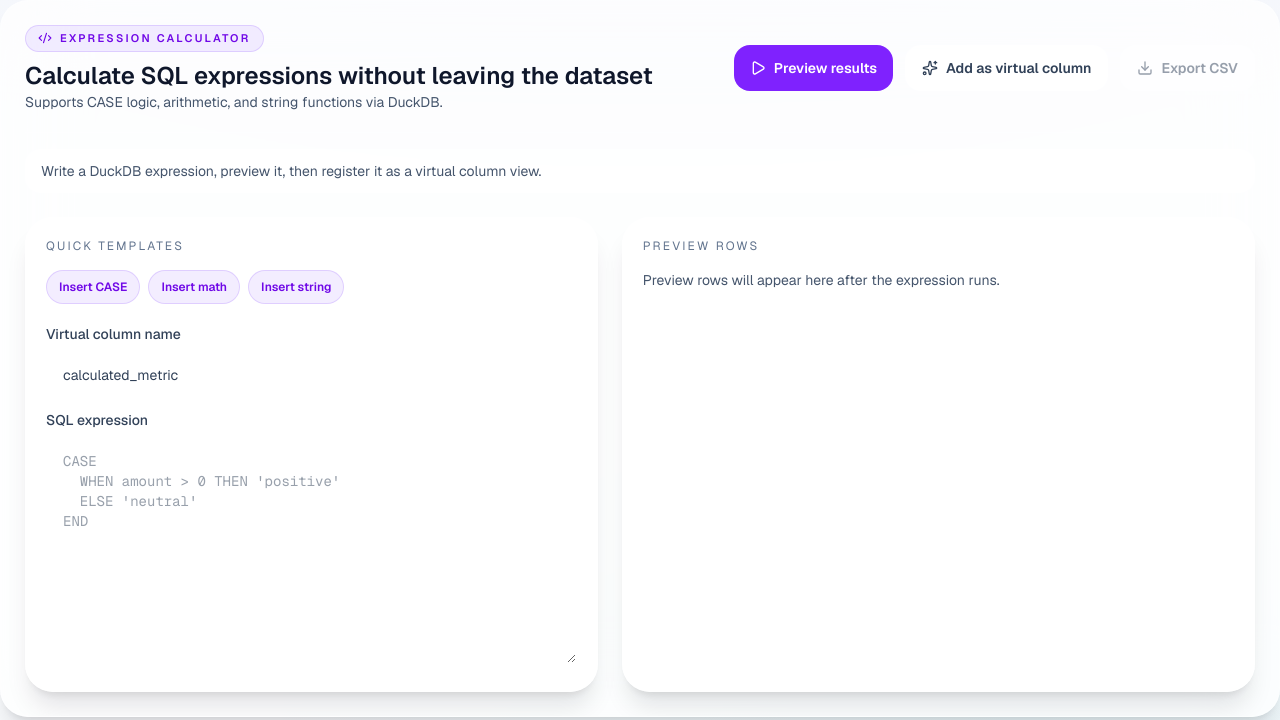
Test: ExpressionCalculator › inserts CASE snippets and previews the computed values
The width and height of the screenshot is (1280, 720).
Click the button "Insert CASE": click(93, 286) [46,270,140,304]
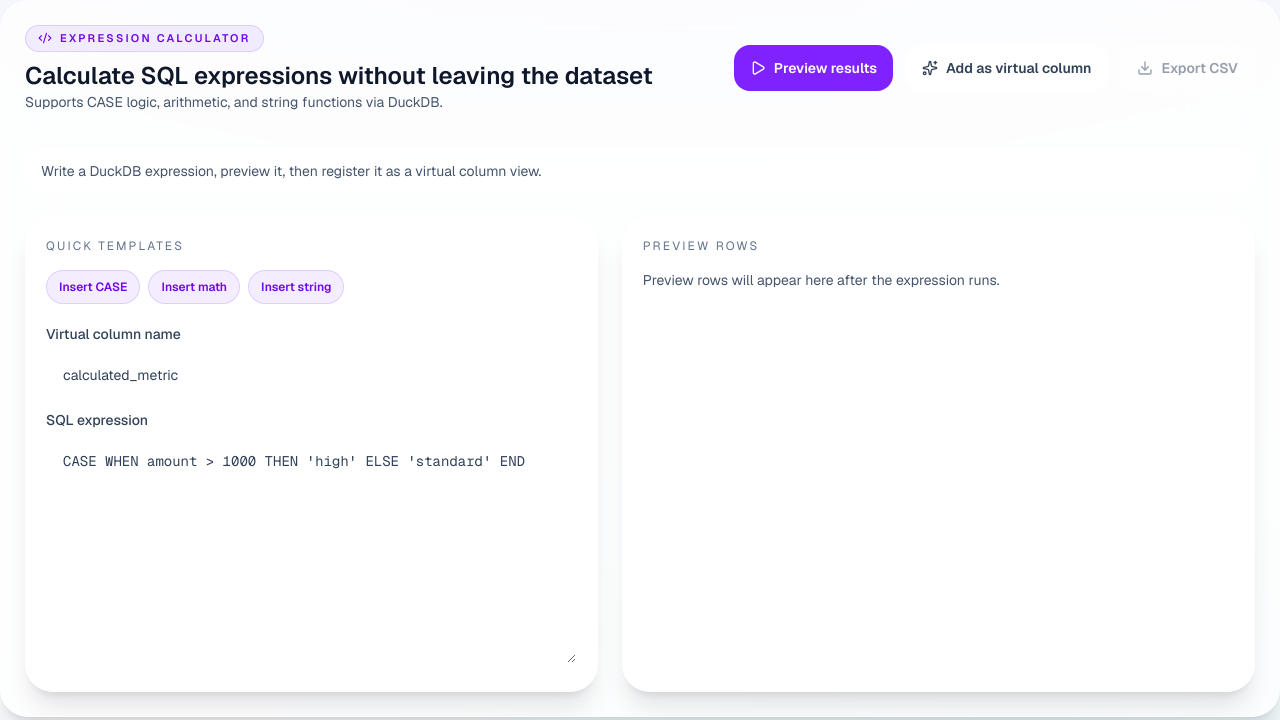
Check: the text box labelled "SQL expression" holds "CASE WHEN amount > 1000 THEN 'high' ELSE 'standard' END", box [46,438,577,664]
Click the button "Preview results": click(813, 68) [734,45,893,91]
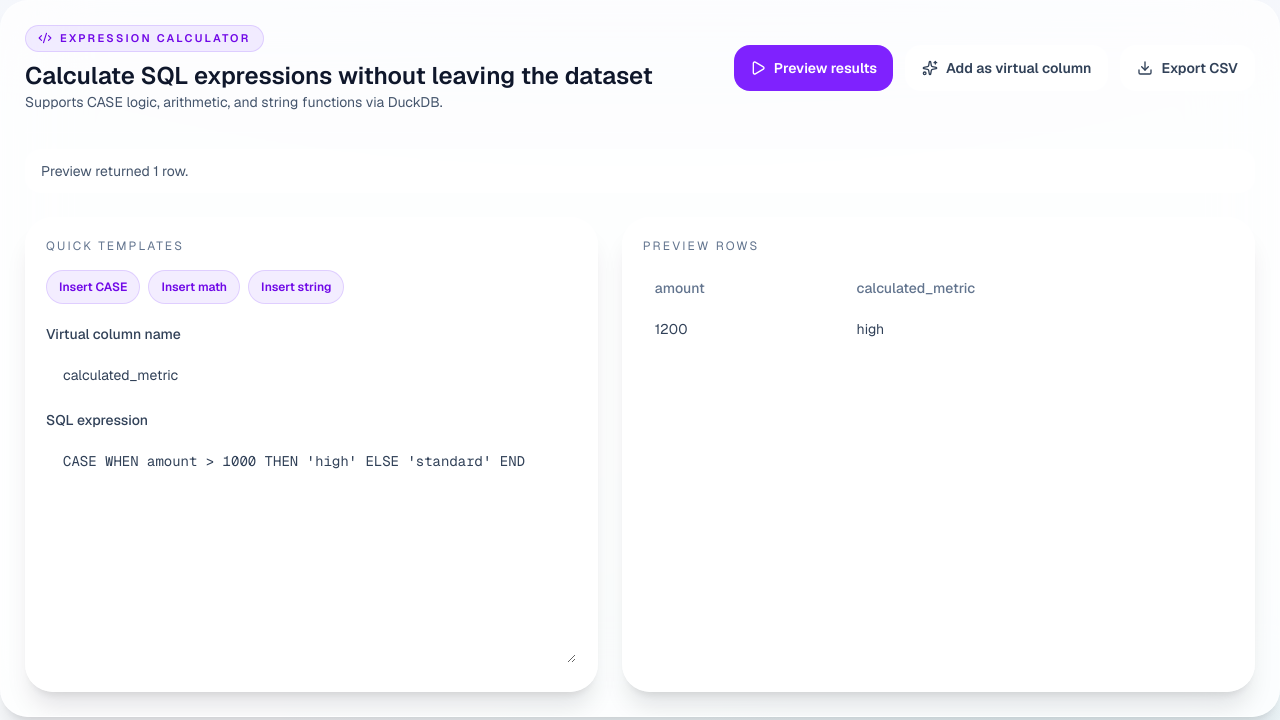
Check: the text "high" is shown, box [845,306,1234,350]
Check: the text "Preview returned 1 row." is shown, box [25,148,1255,192]
